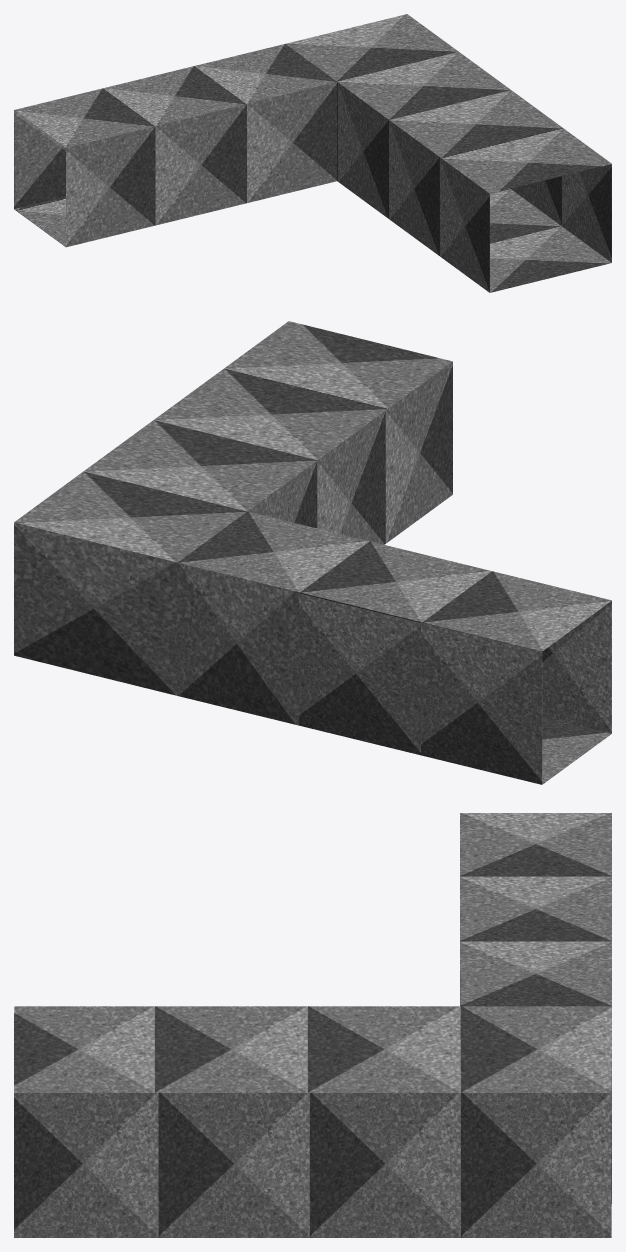
The model's file is vent_right.glb.
The picture shows the model from 3 angles, top to bottom: view 1: azimuth 30°, elevation 25°; view 2: azimuth 150°, elevation 25°; view 3: azimuth 270°, elevation 25°; orthographic projection. The views are drawn at different scales.
Visible parts, largest first — view 1: Cube.002; view 2: Cube.002; view 3: Cube.002.
Boxes of the visible parts, x1,y1,x2,y2 form: Cube.002: [14, 14, 611, 292]; Cube.002: [14, 321, 611, 784]; Cube.002: [14, 813, 611, 1237].
Bounding box in the file's own units: 9.68 × 2.34 × 8.73.
Materials: 1 (1 with a texture image).
